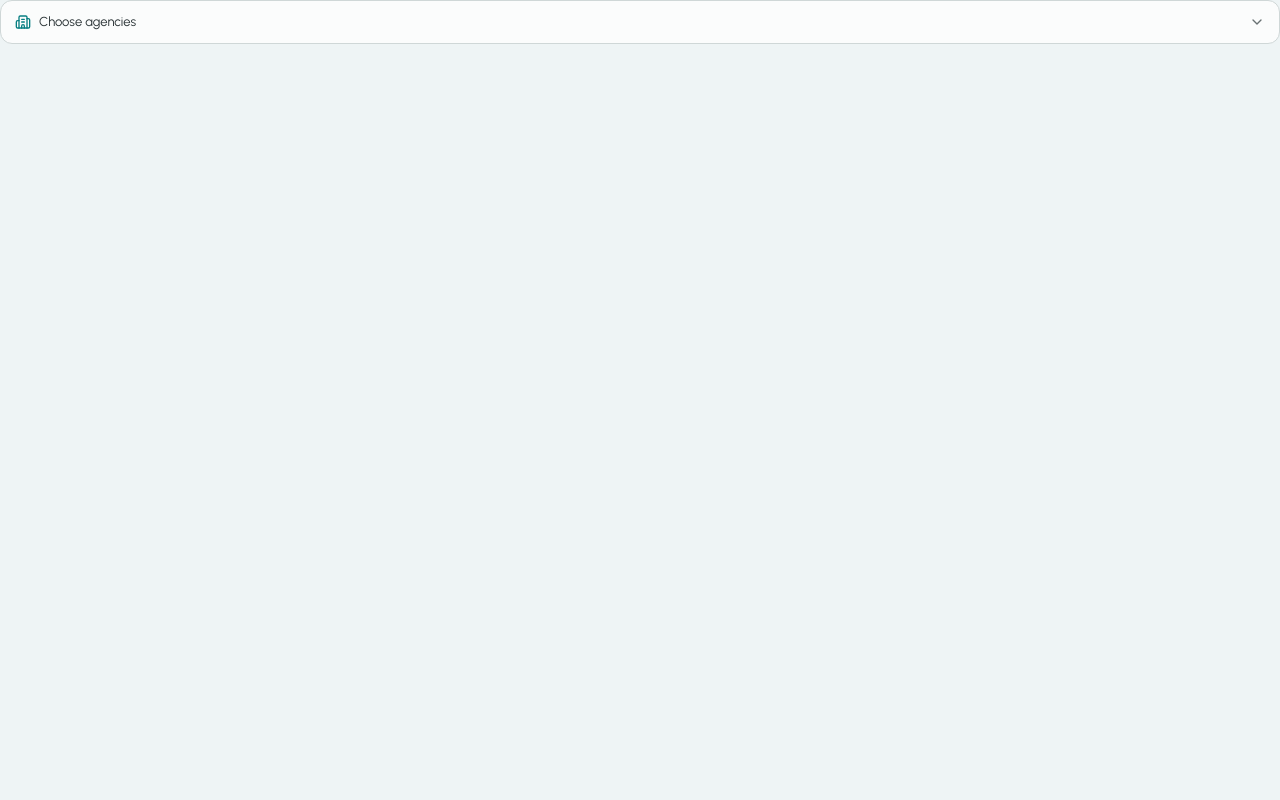
OperationalAgencySelector › selects all loaded agencies, clears them, and exposes selected state
Later steps or results of the test are not shown.
Click the button with aria-label "Select agencies, none selected" at x=88, y=22, box [0,0,1279,44]
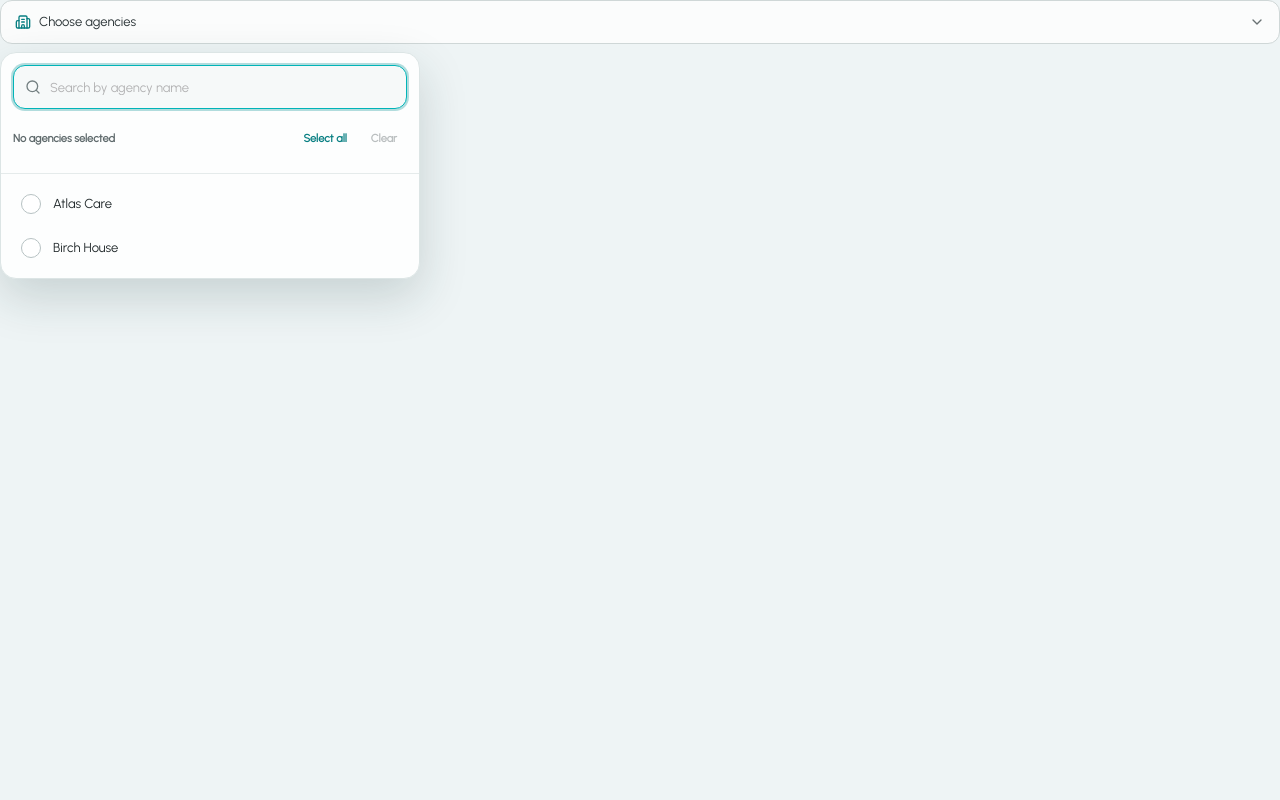
Click the button with aria-label "Select all agencies" at x=325, y=139, box [293,117,357,161]
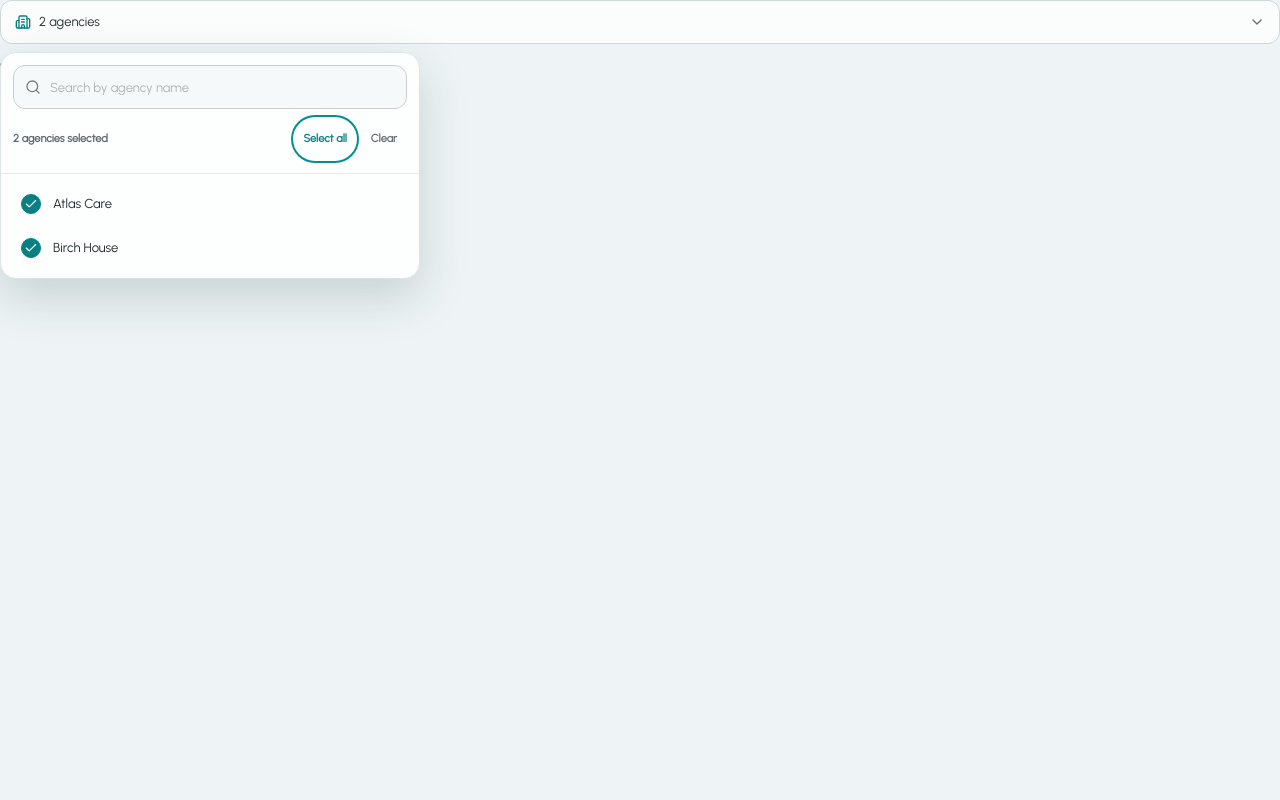
Now the text named "Selected agency IDs" reads "atlas,birch", box [0,54,72,73]
